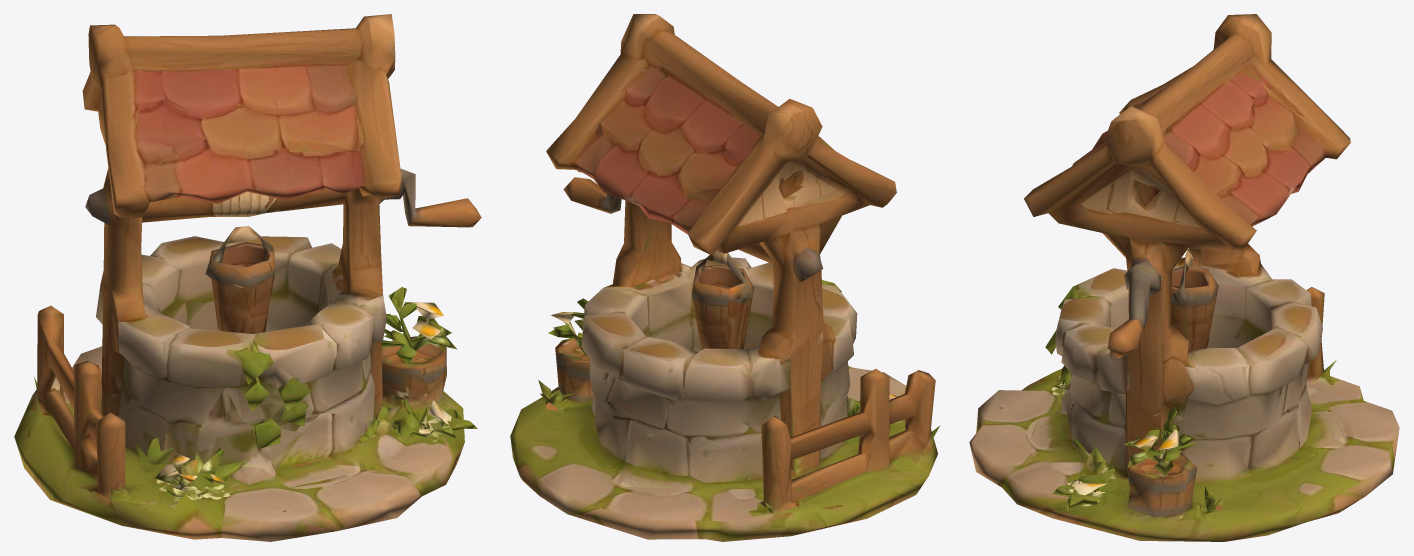
3 views of the same model, side by side, from view 1: azimuth 30°, elevation 25°; view 2: azimuth 150°, elevation 25°; view 3: azimuth 270°, elevation 25° (orthographic). The views are drawn at different scales.
Visible parts, largest first — view 1: stone-well; view 2: stone-well; view 3: stone-well.
Boxes of the visible parts, <box> form: stone-well: <box>14,14,481,541</box>; stone-well: <box>510,14,940,541</box>; stone-well: <box>969,14,1399,541</box>.
Bounding box in the file's own units: 2.18 × 2.2 × 2.18.
Materials: 1 (1 with a texture image).
